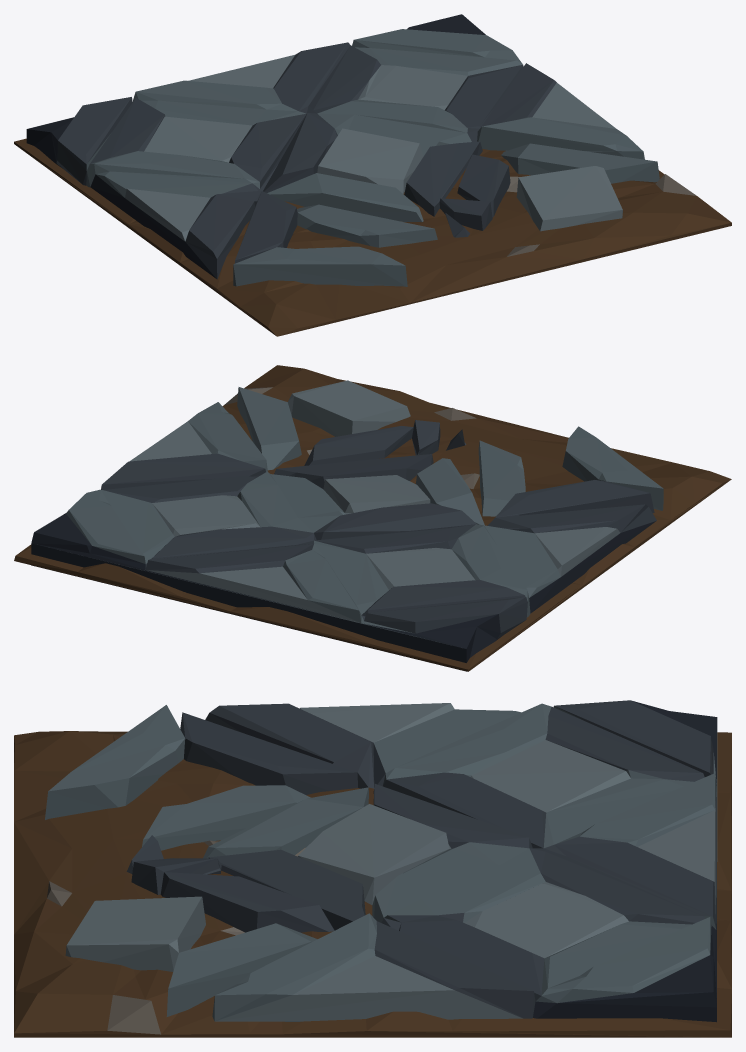
The model's file is MDungeon_FloorTiles_Broken_01.FBX.
3 views of the same model, one above another, from view 1: azimuth 30°, elevation 25°; view 2: azimuth 150°, elevation 25°; view 3: azimuth 270°, elevation 25° (orthographic). The views are drawn at different scales.
Parts seen in each view (by area): view 1: MDungeon_FloorTiles_Broken_01_LOD0; view 2: MDungeon_FloorTiles_Broken_01_LOD0; view 3: MDungeon_FloorTiles_Broken_01_LOD0.
Part boxes in pixels (x1=…): MDungeon_FloorTiles_Broken_01_LOD0: x1=14, y1=14, x2=731, y2=336; MDungeon_FloorTiles_Broken_01_LOD0: x1=14, y1=365, x2=731, y2=671; MDungeon_FloorTiles_Broken_01_LOD0: x1=14, y1=700, x2=731, y2=1037.
Size of what is drawn, in the model's own units: 6.27 by 0.5704 by 6.29.
